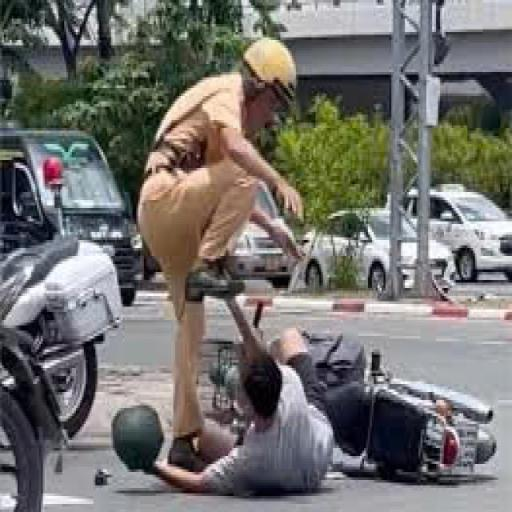with helmet: (224, 30, 310, 116), (107, 400, 172, 474)
